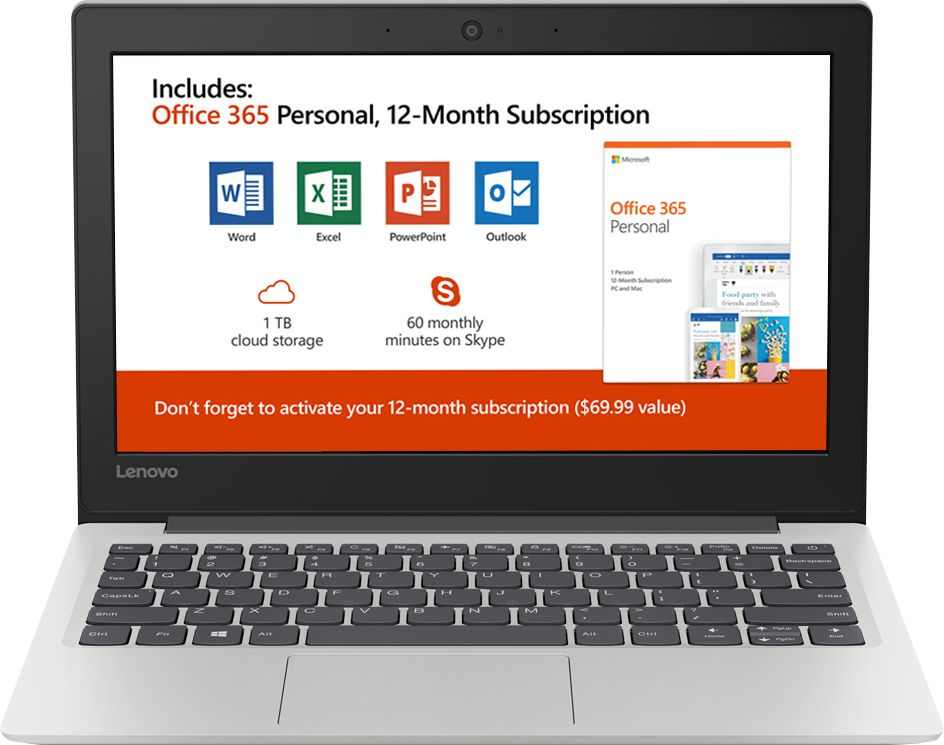Laptop: (2, 1, 944, 744)
